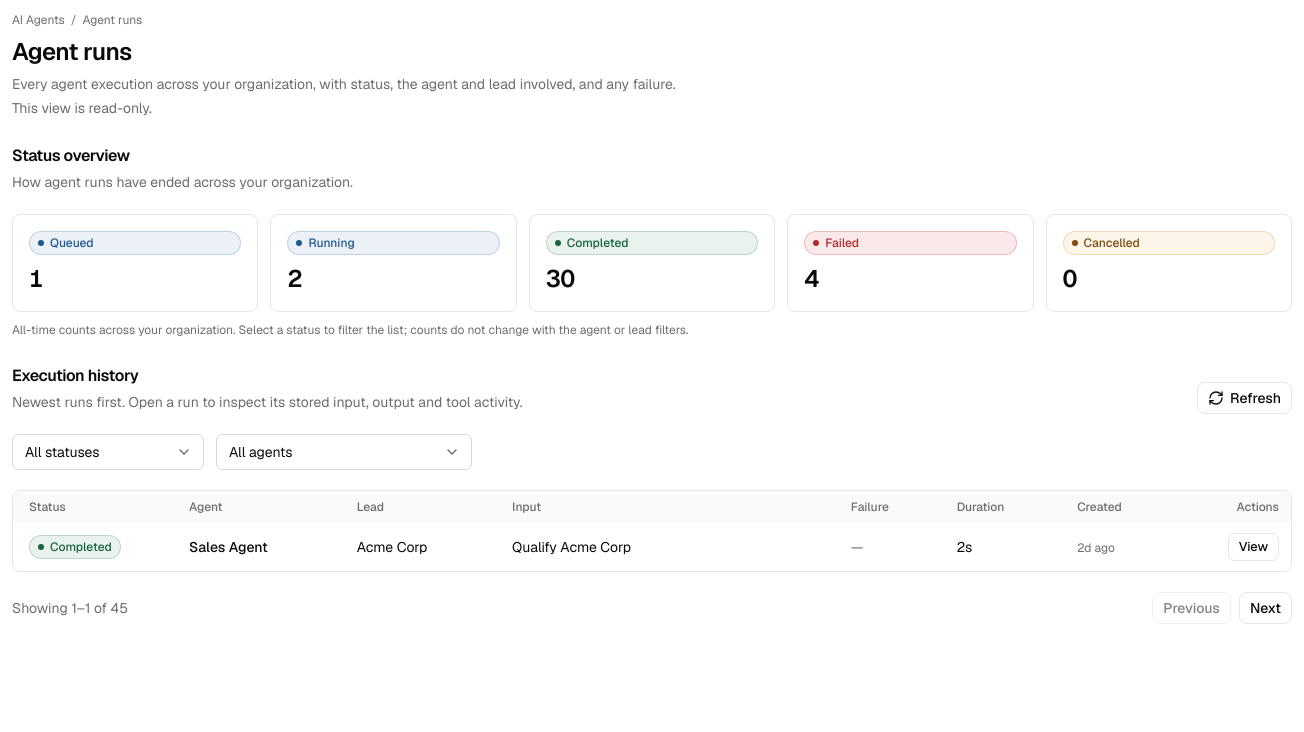
Scenario: Agent runs page › paginates with limit and offset
The image size is (1304, 732).
Expected: the text "Showing 1–1 of 45" is shown, [12,598,128,618]
Expected: the button with aria-label "Previous executions page" is disabled, [1152,592,1231,624]
Step 1. Click the button with aria-label "Next executions page" → {"x": 1265, "y": 608}, box [1239,592,1292,624]
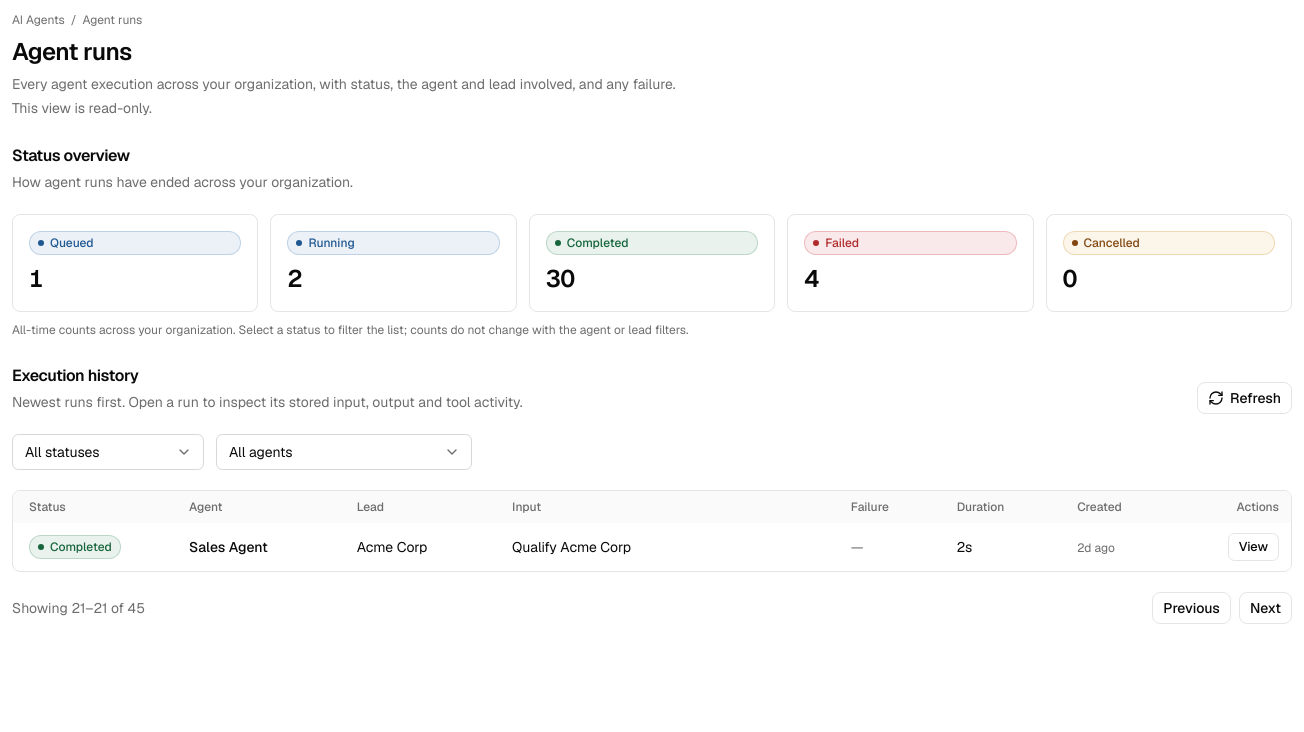
Now the text "Showing 21–21 of 45" is shown, box [12,598,145,618]
Now the button with aria-label "Previous executions page" is enabled, box [1152,592,1231,624]
